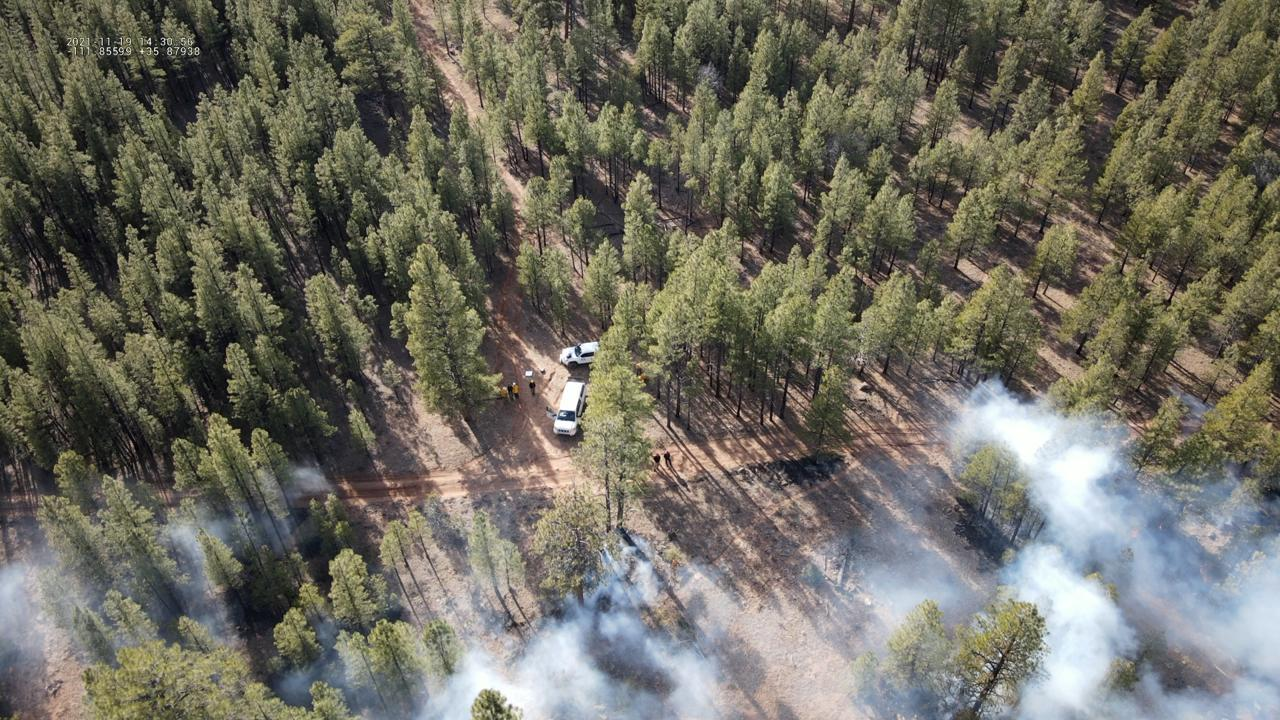fire: (1129, 528, 1141, 540)
smoke: (0, 463, 735, 720), (852, 375, 1280, 720)
